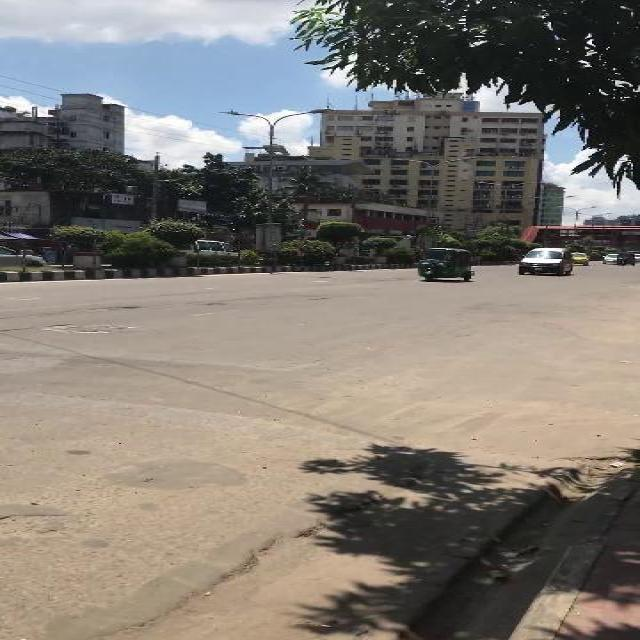car: (600, 252, 616, 264)
minivan: (518, 246, 574, 278)
taxi: (570, 251, 589, 265)
three wheelers -CNG-: (417, 246, 475, 282), (614, 251, 634, 267)
